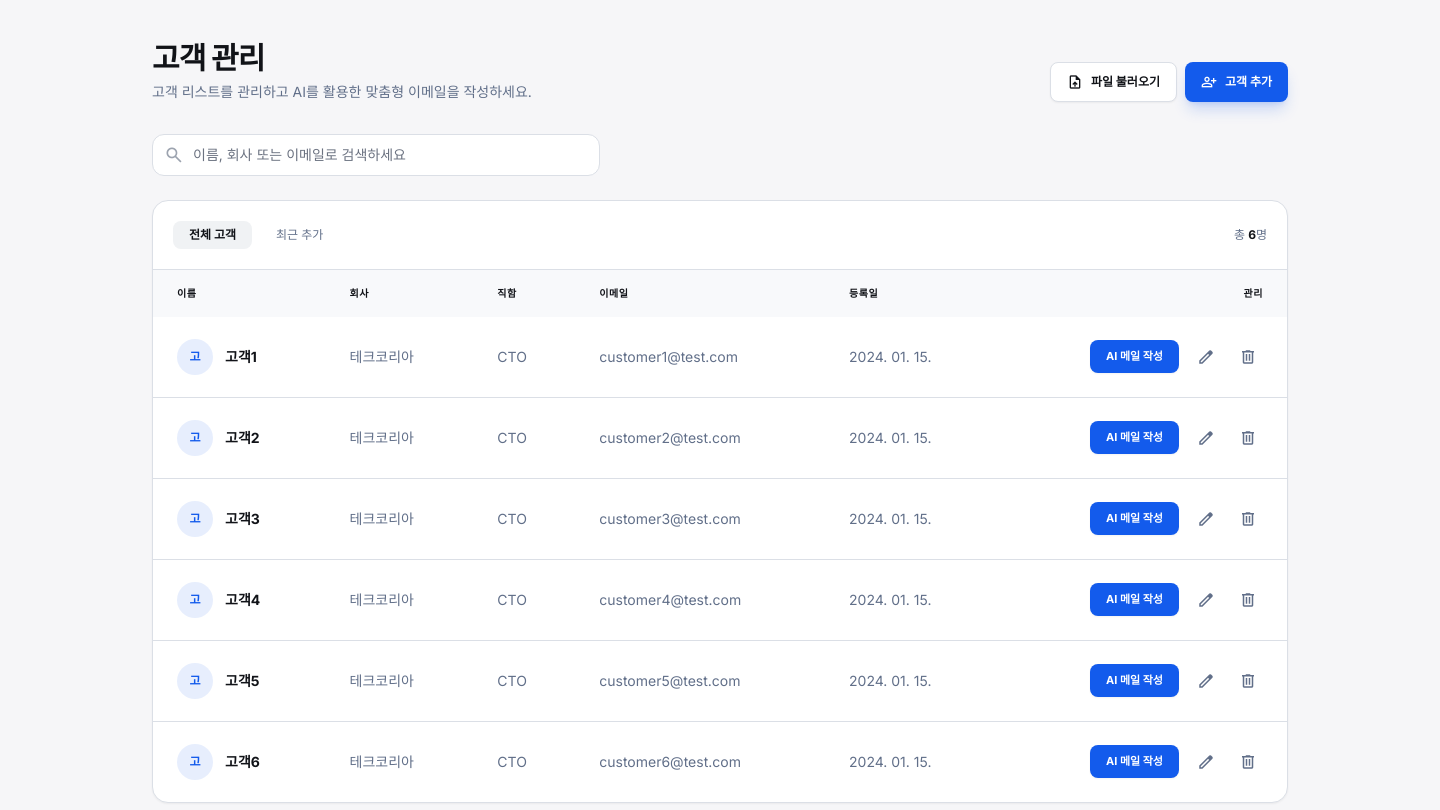
CustomerManagement › 필터 탭 › 최근 추가 탭 클릭 시 최근 5개만 표시한다
Check: the text "고객1" is shown, box [225,346,257,366]
Click the button "최근 추가" at (300, 234), box [260,220,339,248]
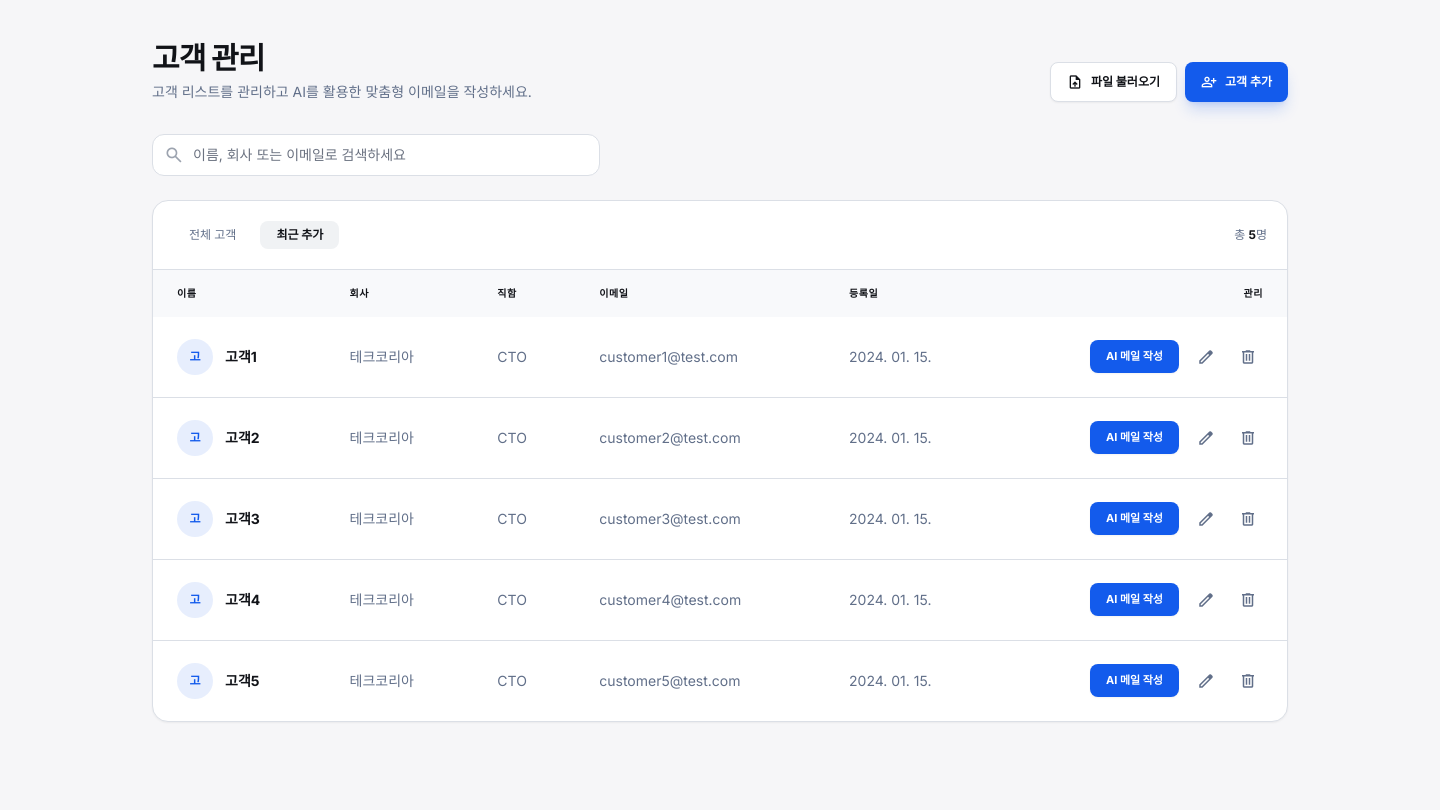
Check: the text "고객1" is shown, box [225,346,257,366]
Check: the text "고객6" is gone
